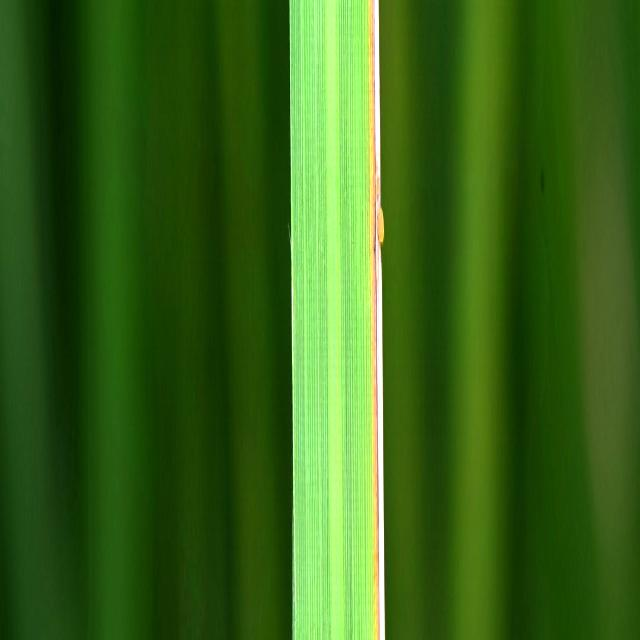BLB: (374, 0, 385, 640)
